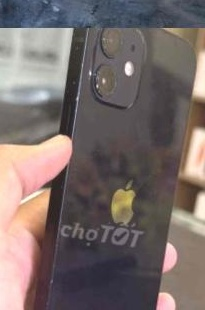physical_damage: (0, 0, 63, 28)
